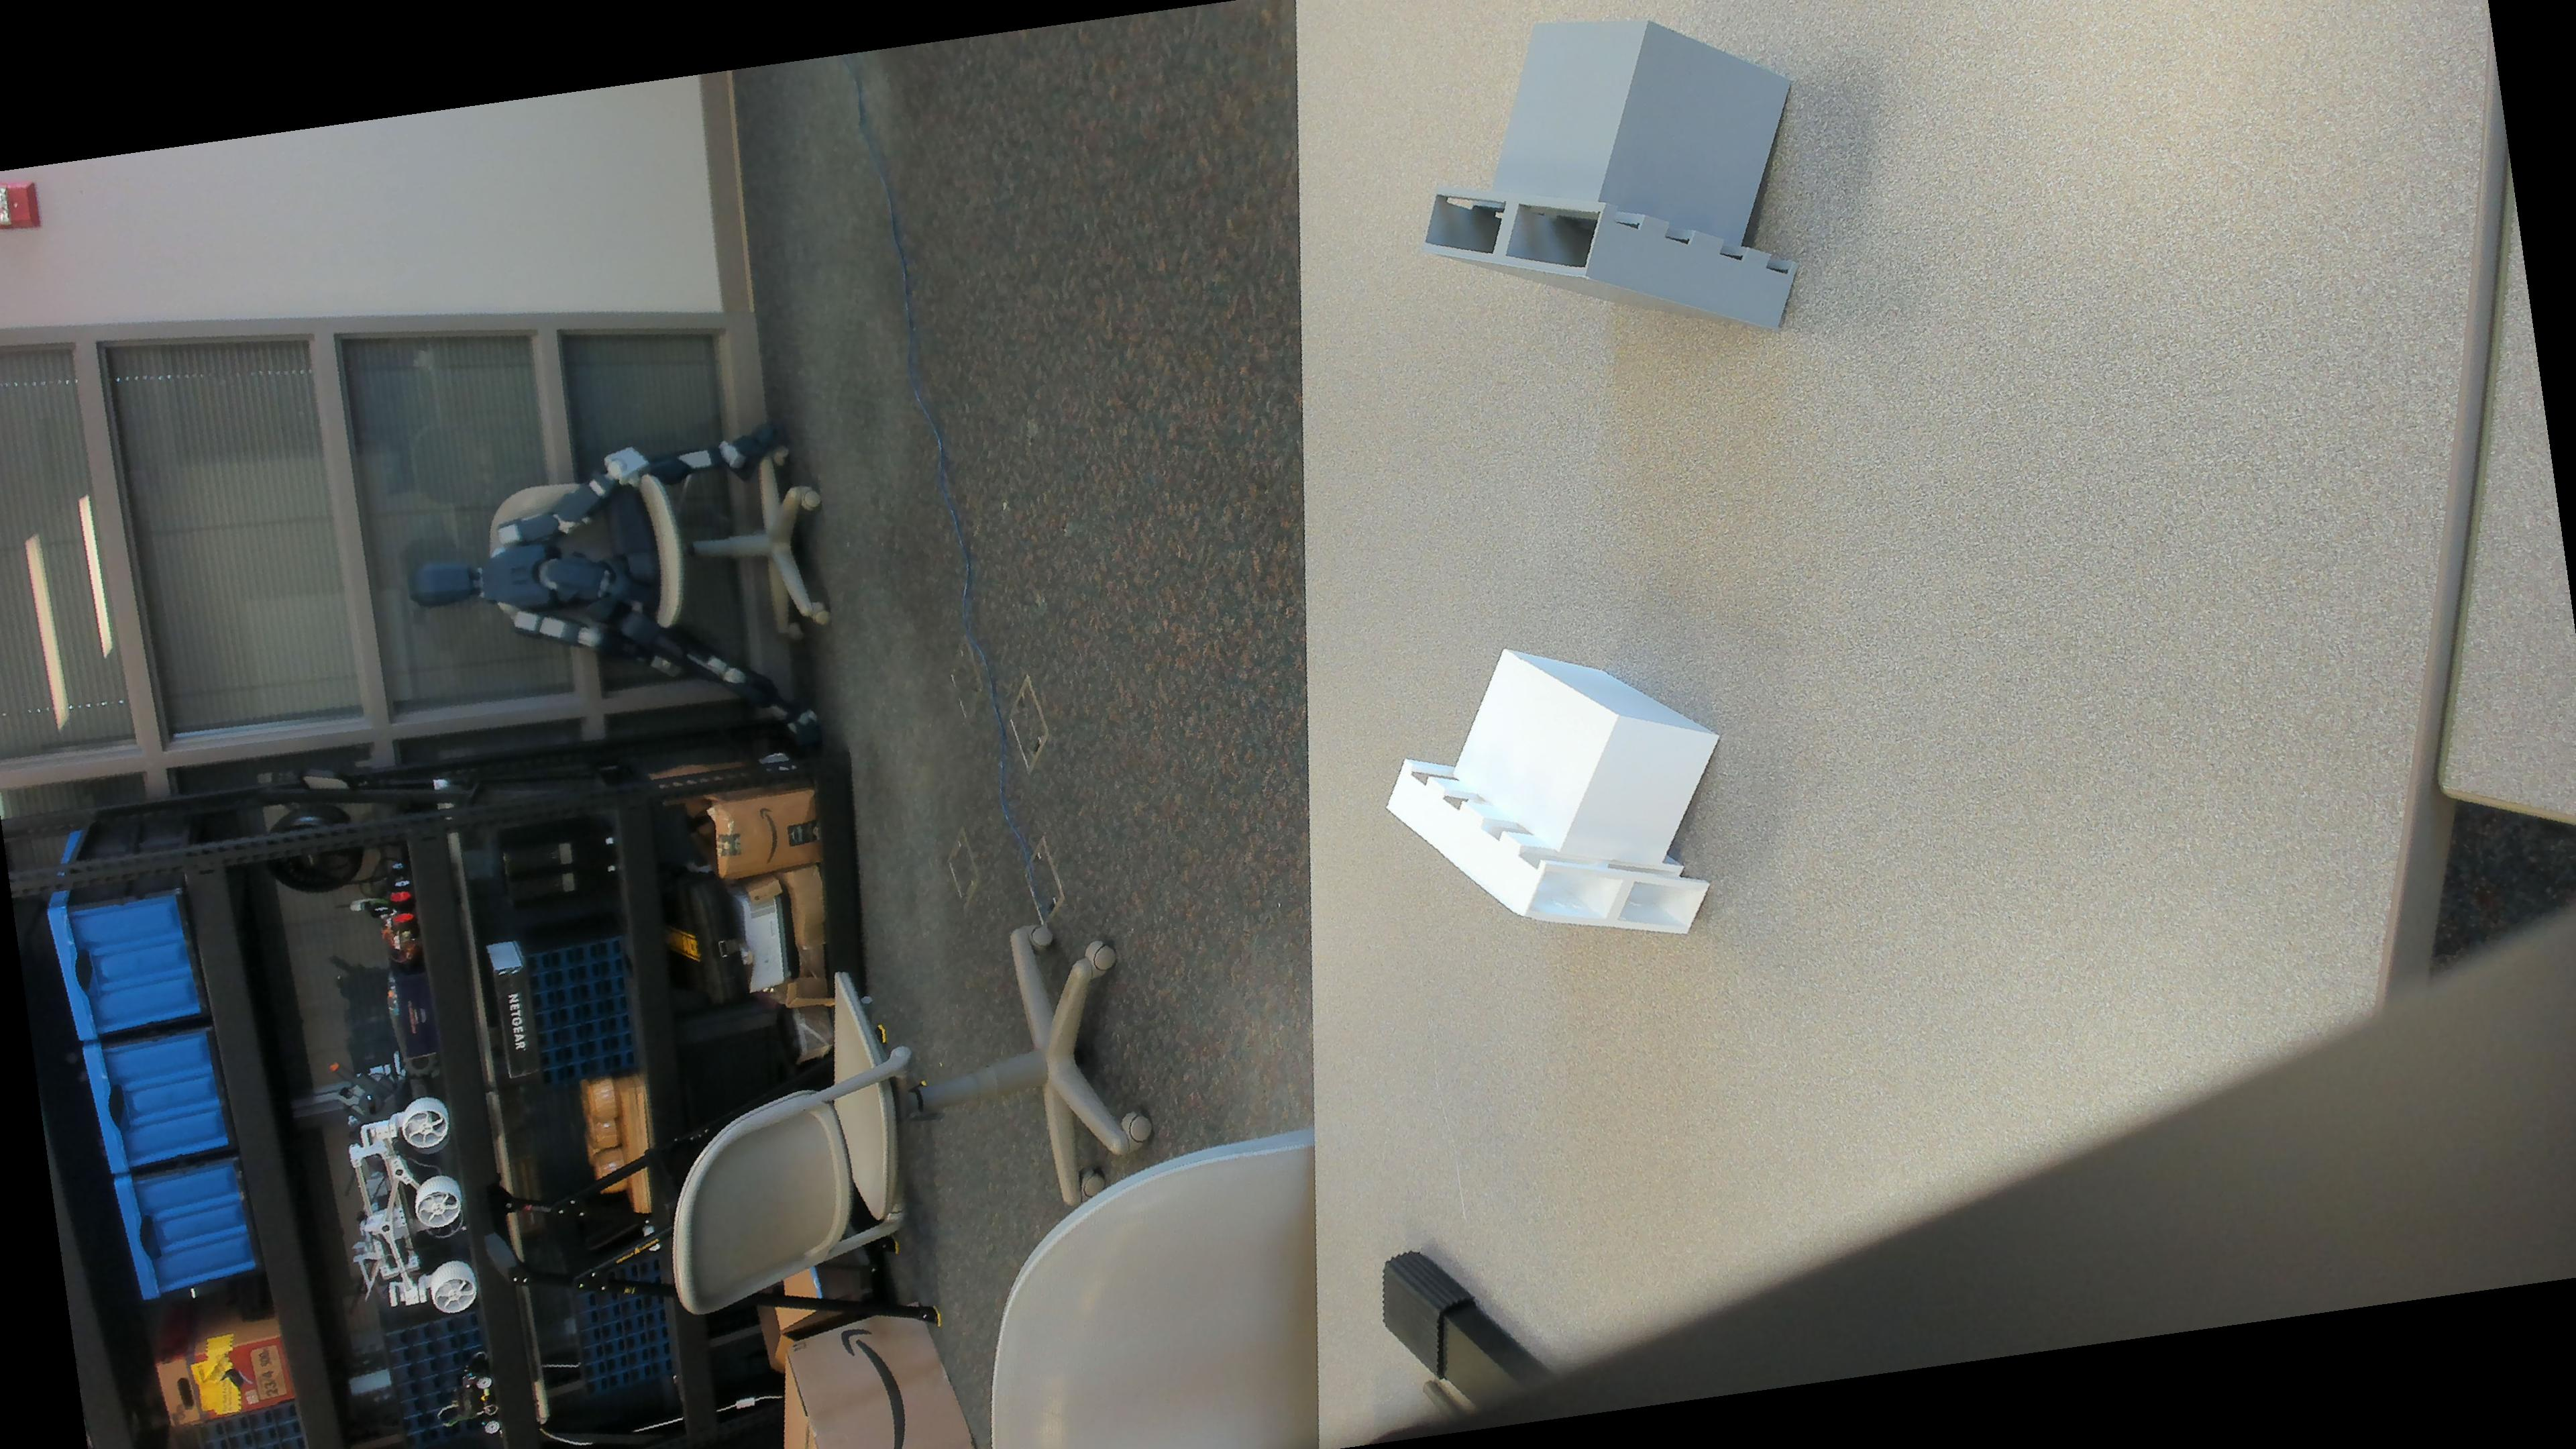grey pallet: (1415, 11, 1819, 366)
white pallet: (1369, 637, 1720, 957)
